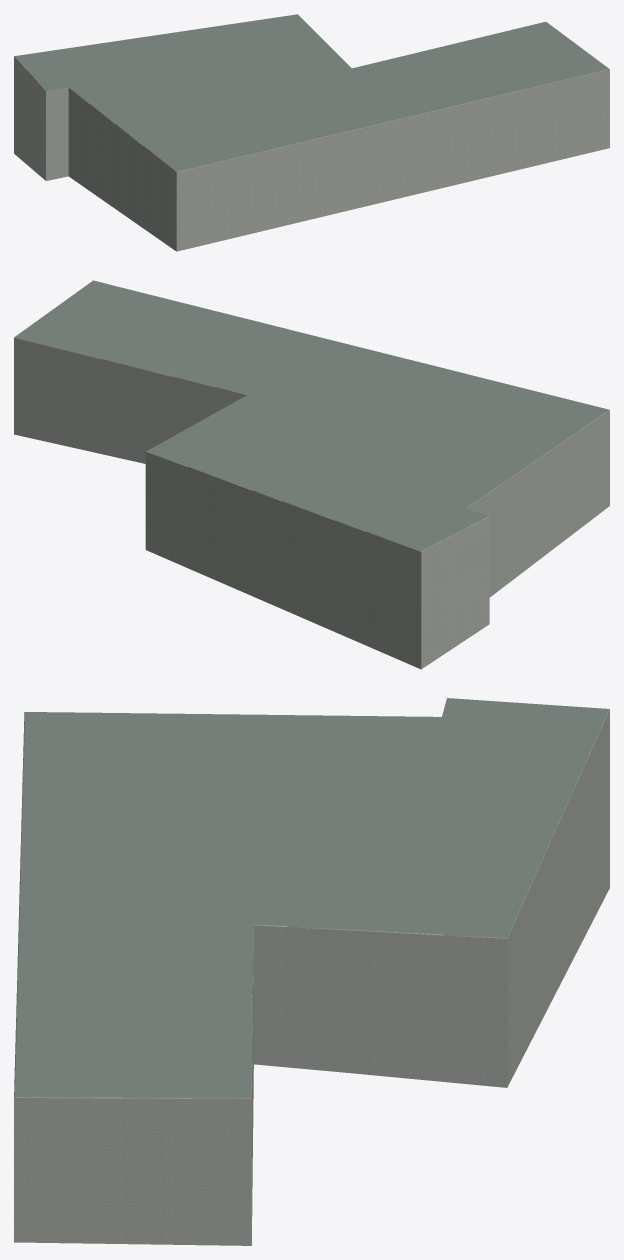
Rendered from fragments.glb.
3 renders of one model, top to bottom at view 1: azimuth 30°, elevation 25°; view 2: azimuth 150°, elevation 25°; view 3: azimuth 270°, elevation 25°, orthographic. The views are drawn at different scales.
Parts seen in each view (by area): view 1: Practice_Fragment_060, Practice_Fragment_002, Practice_Fragment_052, Practice_Fragment_056, Practice_Fragment_003, Practice_Fragment_037, Practice_Fragment_008, Practice_Fragment_006, Practice_Fragment_015, Practice_Fragment_010, Practice_Fragment_014, Practice_Fragment_025 (+33 smaller); view 2: Practice_Fragment_063, Practice_Fragment_026, Practice_Fragment_050, Practice_Fragment_058, Practice_Fragment_049, Practice_Fragment_006, Practice_Fragment_030, Practice_Fragment_031, Practice_Fragment_014, Practice_Fragment_024, Practice_Fragment_025, Practice_Fragment_002 (+31 smaller); view 3: Practice_Fragment_047, Practice_Fragment_063, Practice_Fragment_060, Practice_Fragment_050, Practice_Fragment_062, Practice_Fragment_046, Practice_Fragment_043, Practice_Fragment_006, Practice_Fragment_059, Practice_Fragment_031, Practice_Fragment_049, Practice_Fragment_022 (+29 smaller).
Boxes of the visible parts, left/top/right/bottom form: Practice_Fragment_060: left=510, top=47, right=609, bottom=130; Practice_Fragment_002: left=140, top=139, right=210, bottom=219; Practice_Fragment_052: left=407, top=74, right=490, bottom=155; Practice_Fragment_056: left=448, top=61, right=542, bottom=138; Practice_Fragment_003: left=174, top=128, right=250, bottom=213; Practice_Fragment_037: left=358, top=84, right=435, bottom=163; Practice_Fragment_008: left=219, top=117, right=289, bottom=203; Practice_Fragment_006: left=114, top=107, right=218, bottom=180; Practice_Fragment_015: left=45, top=80, right=121, bottom=193; Practice_Fragment_010: left=256, top=106, right=333, bottom=179; Practice_Fragment_014: left=90, top=96, right=152, bottom=207; Practice_Fragment_025: left=28, top=59, right=107, bottom=138; Practice_Fragment_063: left=14, top=306, right=144, bottom=404; Practice_Fragment_026: left=365, top=517, right=453, bottom=615; Practice_Fragment_050: left=145, top=437, right=218, bottom=570; Practice_Fragment_058: left=98, top=332, right=198, bottom=419; Practice_Fragment_049: left=188, top=448, right=286, bottom=536; Practice_Fragment_006: left=439, top=417, right=565, bottom=512; Practice_Fragment_030: left=254, top=543, right=333, bottom=629; Practice_Fragment_031: left=278, top=473, right=378, bottom=560; Practice_Fragment_014: left=455, top=454, right=527, bottom=590; Practice_Fragment_024: left=367, top=594, right=459, bottom=669; Practice_Fragment_025: left=386, top=497, right=489, bottom=594; Practice_Fragment_002: left=531, top=401, right=609, bottom=497; Practice_Fragment_047: left=288, top=885, right=443, bottom=1015; Practice_Fragment_063: left=118, top=1032, right=252, bottom=1169; Practice_Fragment_060: left=14, top=1033, right=123, bottom=1185; Practice_Fragment_050: left=433, top=899, right=524, bottom=1087; Practice_Fragment_062: left=123, top=1141, right=252, bottom=1245; Practice_Fragment_046: left=295, top=999, right=437, bottom=1080; Practice_Fragment_043: left=147, top=900, right=296, bottom=1008; Practice_Fragment_006: left=150, top=713, right=262, bottom=782; Practice_Fragment_059: left=14, top=1178, right=124, bottom=1243; Practice_Fragment_031: left=434, top=780, right=577, bottom=900; Practice_Fragment_049: left=439, top=849, right=547, bottom=975; Practice_Fragment_022: left=324, top=782, right=438, bottom=849.
Bounding box in the file's own units: 2.8 × 0.5844 × 1.76.
3 materials, 1 textured.
